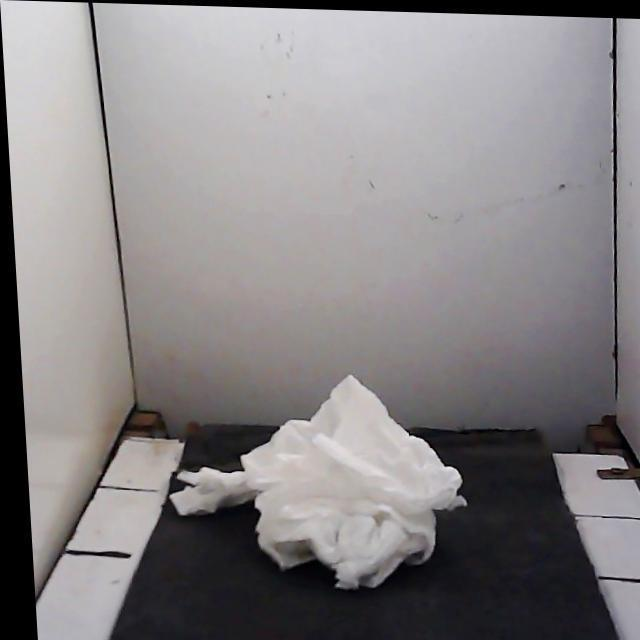papel: (170, 375, 466, 589)
